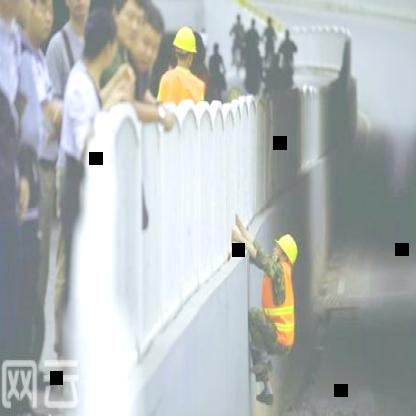head: (124, 4, 167, 74), (82, 10, 118, 68), (110, 0, 142, 45), (29, 0, 54, 44), (64, 0, 94, 23), (0, 0, 31, 21)
helmet: (272, 230, 298, 282), (170, 25, 199, 68)
